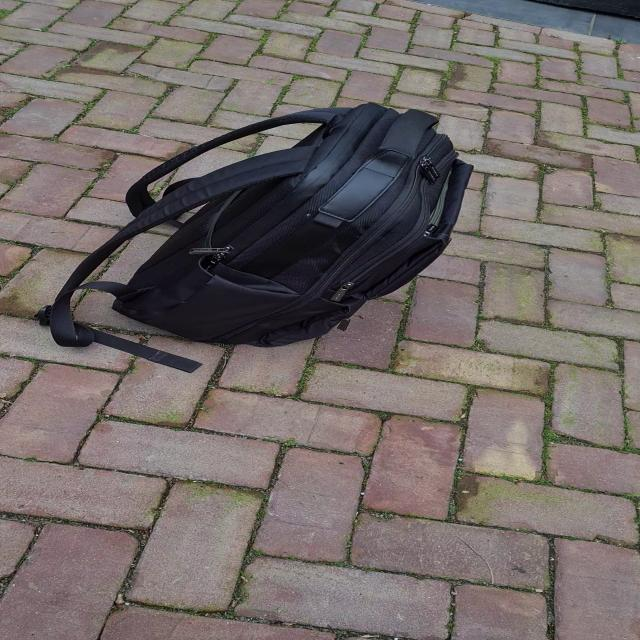backpack: (99, 98, 476, 373)
